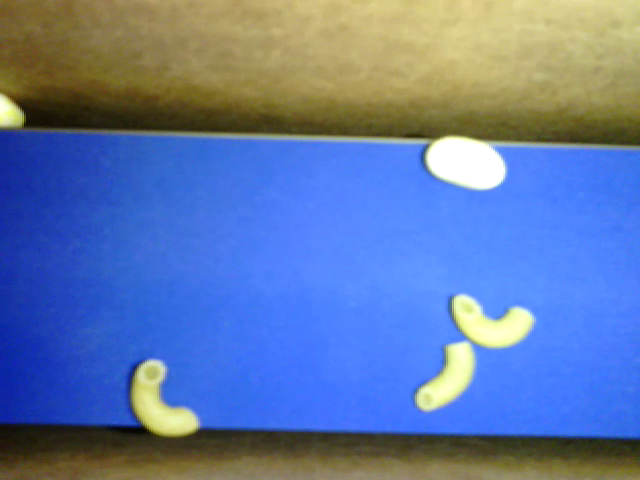elbow: (130, 359, 200, 438), (451, 293, 535, 350), (414, 342, 475, 412)
